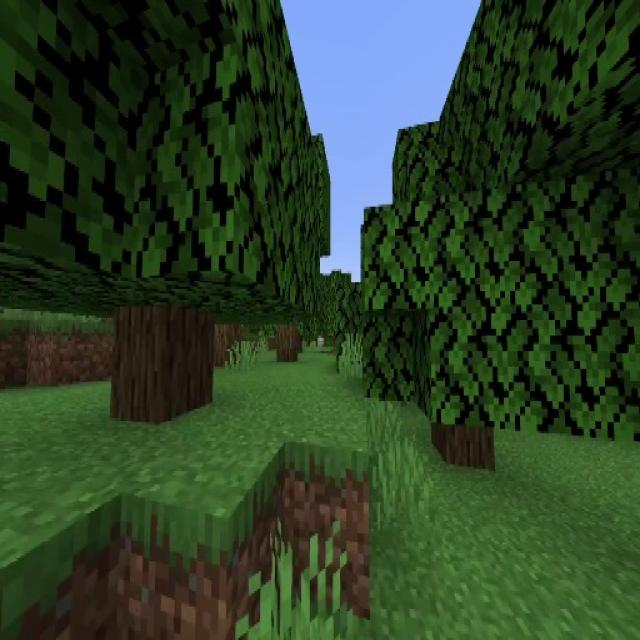oak: (0, 0, 314, 426), (366, 124, 577, 478)
oak_log: (112, 307, 214, 419), (432, 420, 490, 469), (278, 325, 295, 358)
